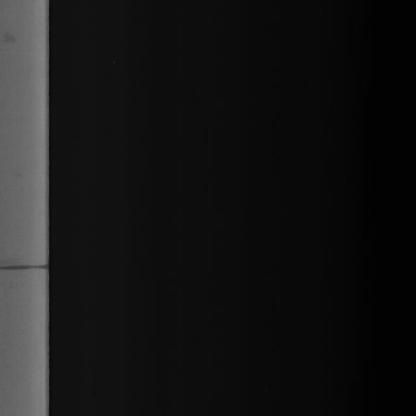crease: (2, 252, 56, 286)
